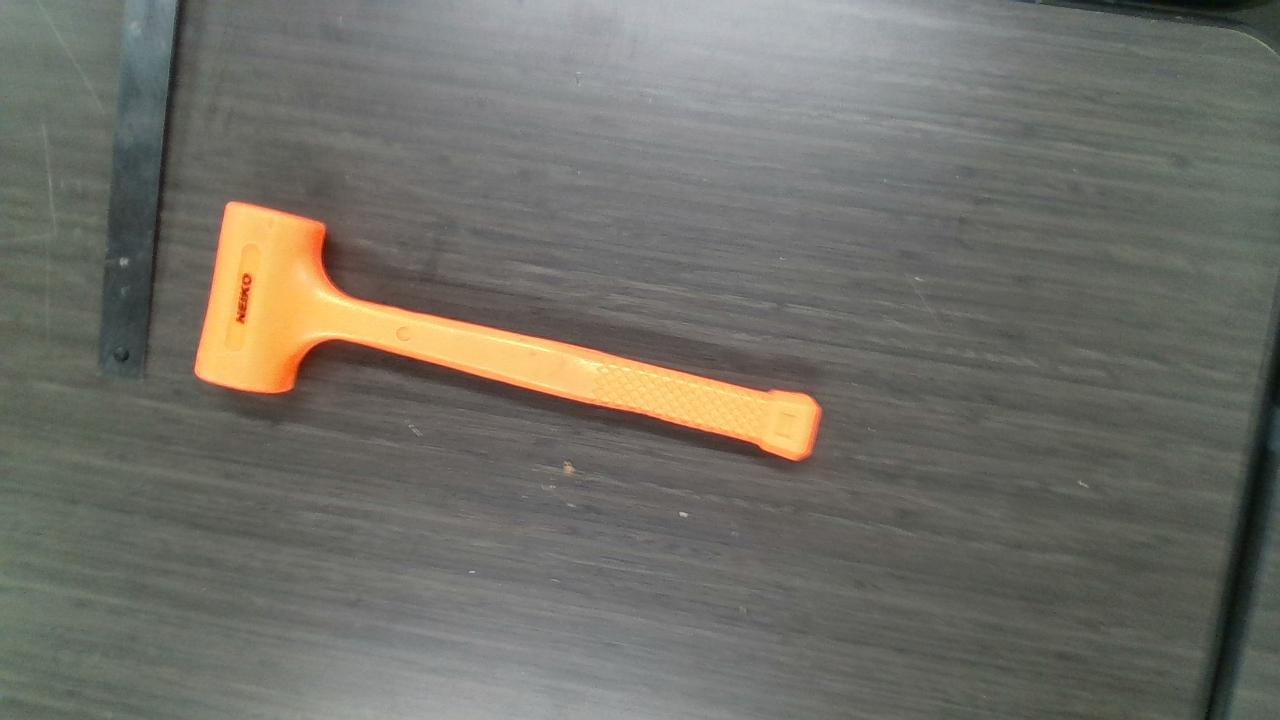Orange Hammer: (203, 201, 822, 462)
